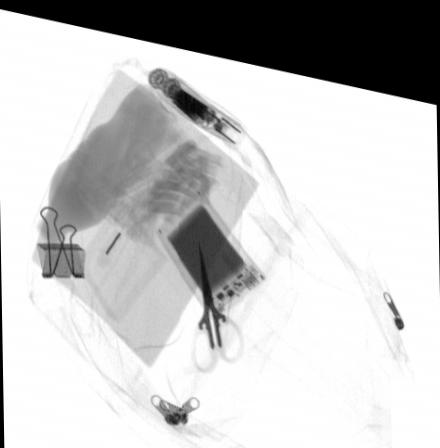Powerbank: (154, 179, 266, 306)
Scissors: (190, 225, 245, 362)
